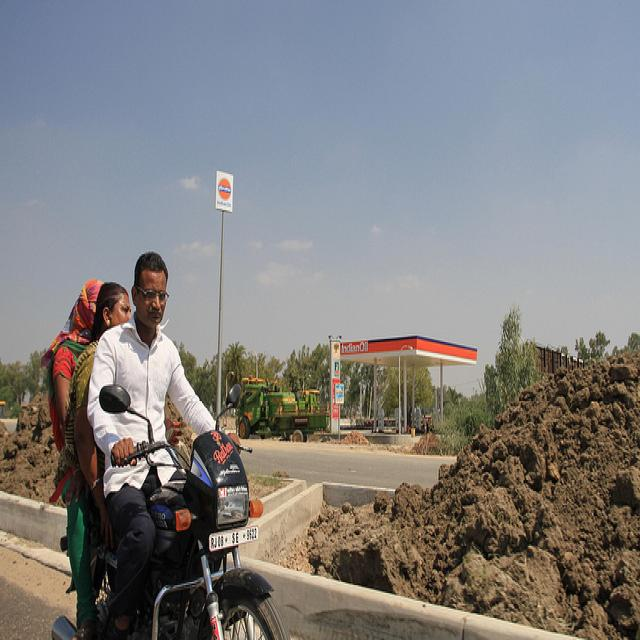motor: (51, 386, 289, 634)
